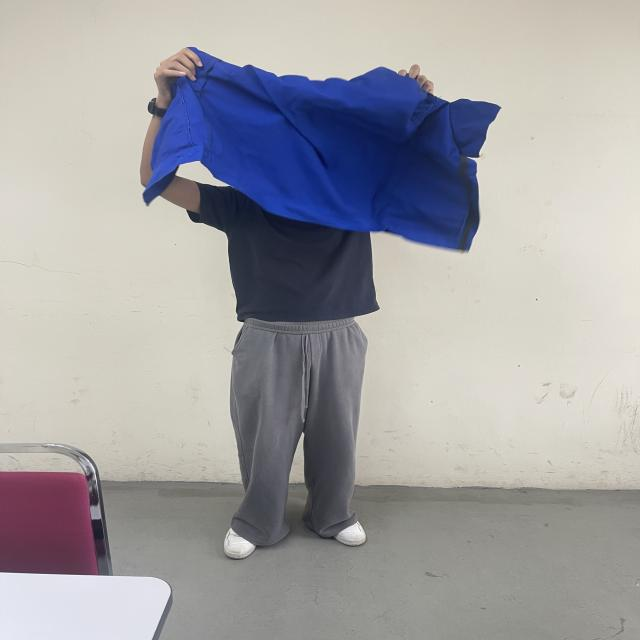person_without_labcoat: (140, 48, 500, 559)
